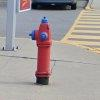a fire hydrant: (28, 16, 53, 78)
